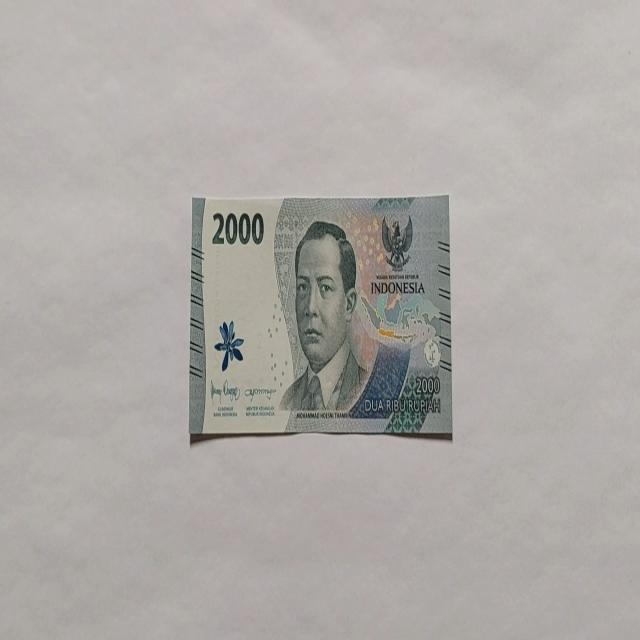dua ribu rupiah: (188, 192, 452, 441), (278, 218, 371, 416)
